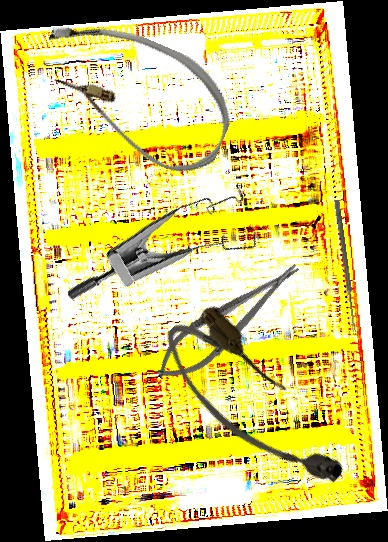Cannula: (149, 296, 358, 514), (20, 3, 248, 185)
Needle Holder: (145, 249, 312, 394)
Speculum: (63, 154, 278, 365)
Surgical Spoon: (333, 199, 358, 333)
